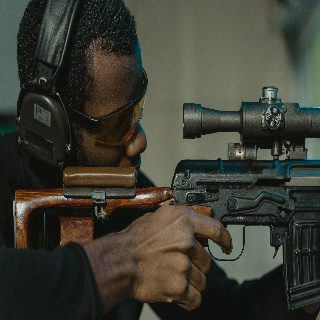rifle: (12, 85, 320, 312)
